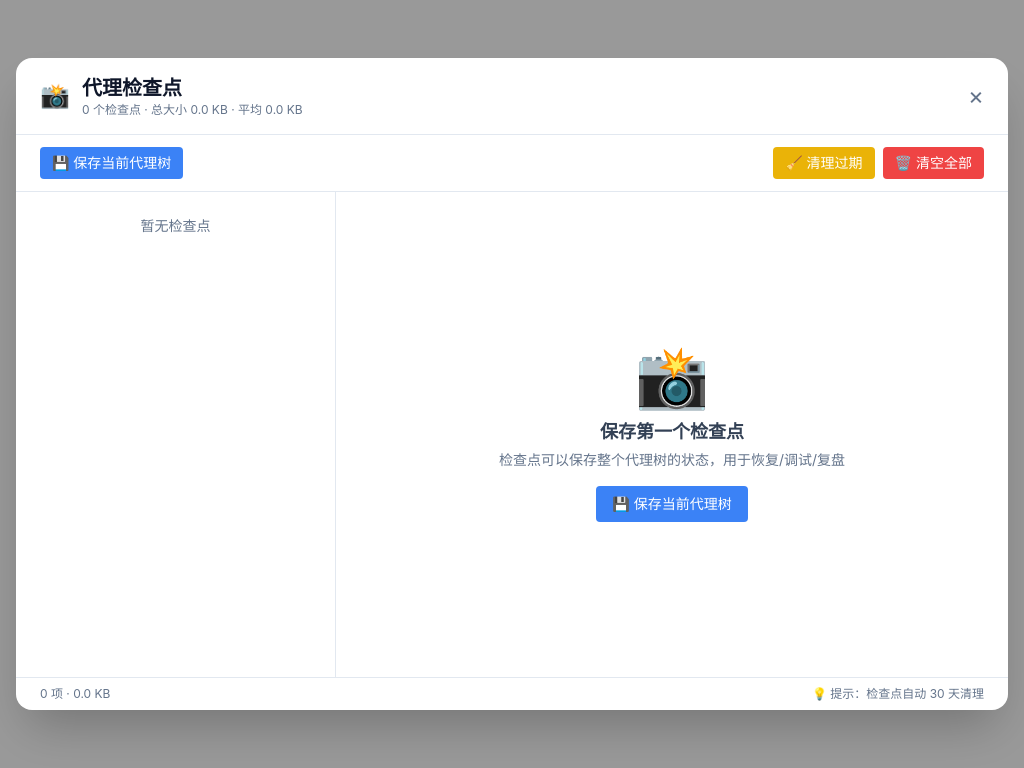
it: AgentCheckpointPanel › 保存带名称和标签
The image size is (1024, 768).
Click the button with test id "save-button" at {"x": 112, "y": 163}, box x1=40 y1=147 x2=183 y2=179
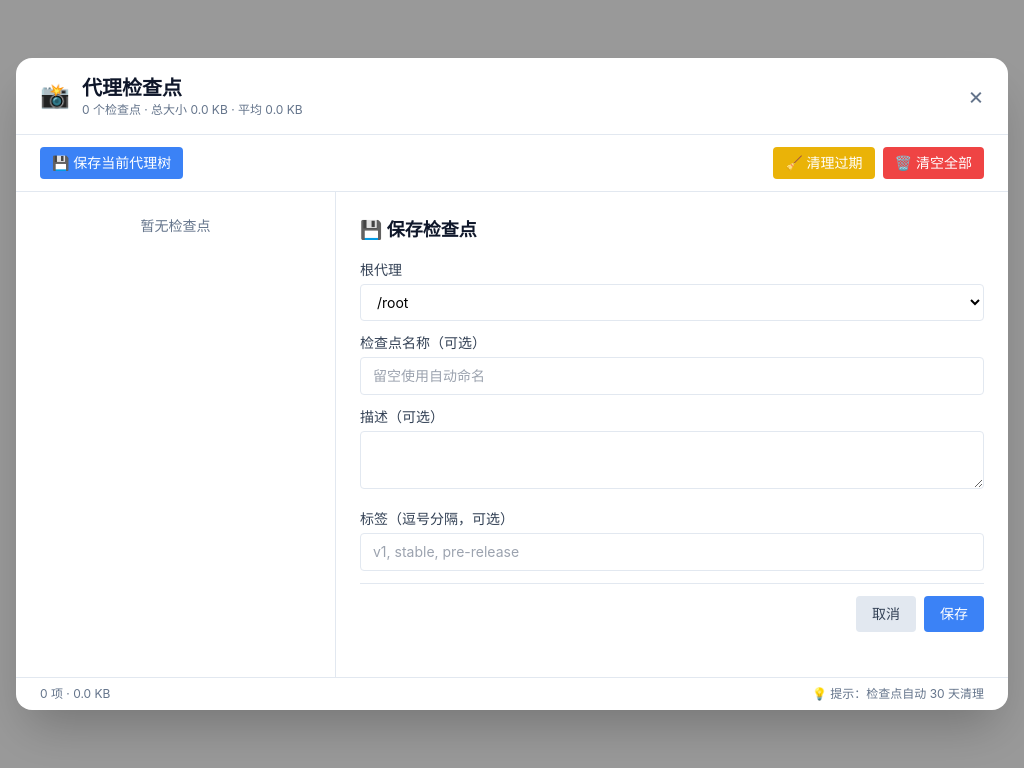
Type "my-checkpoint" into the field with test id "name-input" at {"x": 672, "y": 376}, box x1=360 y1=357 x2=984 y2=395
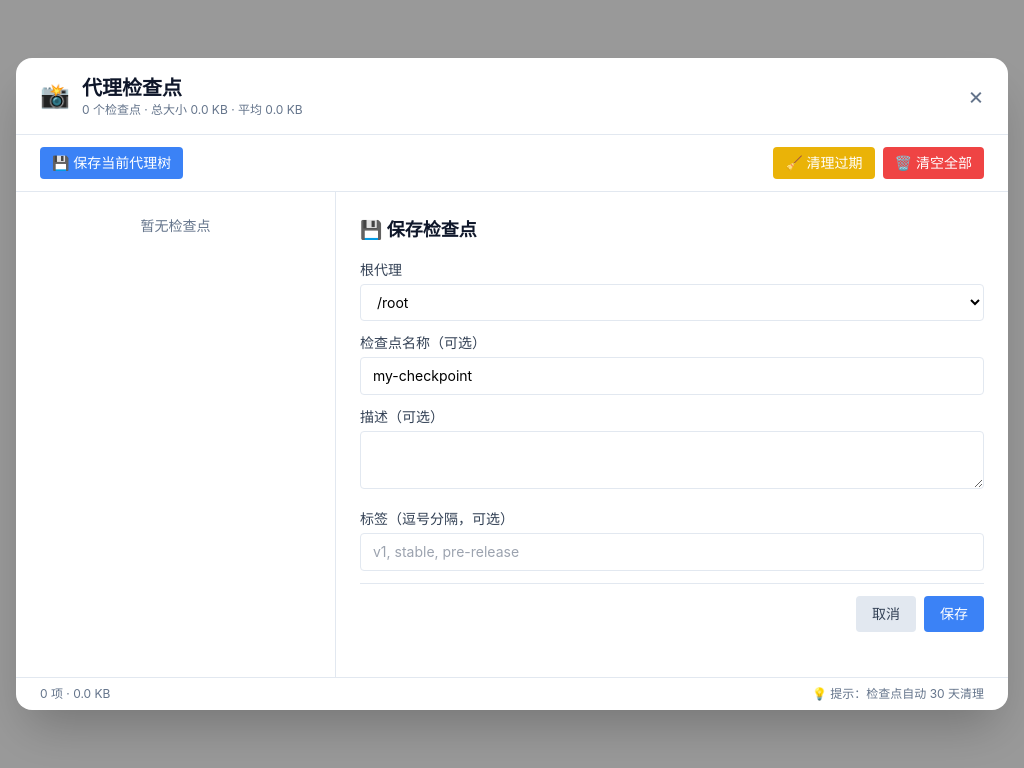
Type "v1, stable" into the field with test id "tags-input" at {"x": 672, "y": 552}, box x1=360 y1=533 x2=984 y2=571
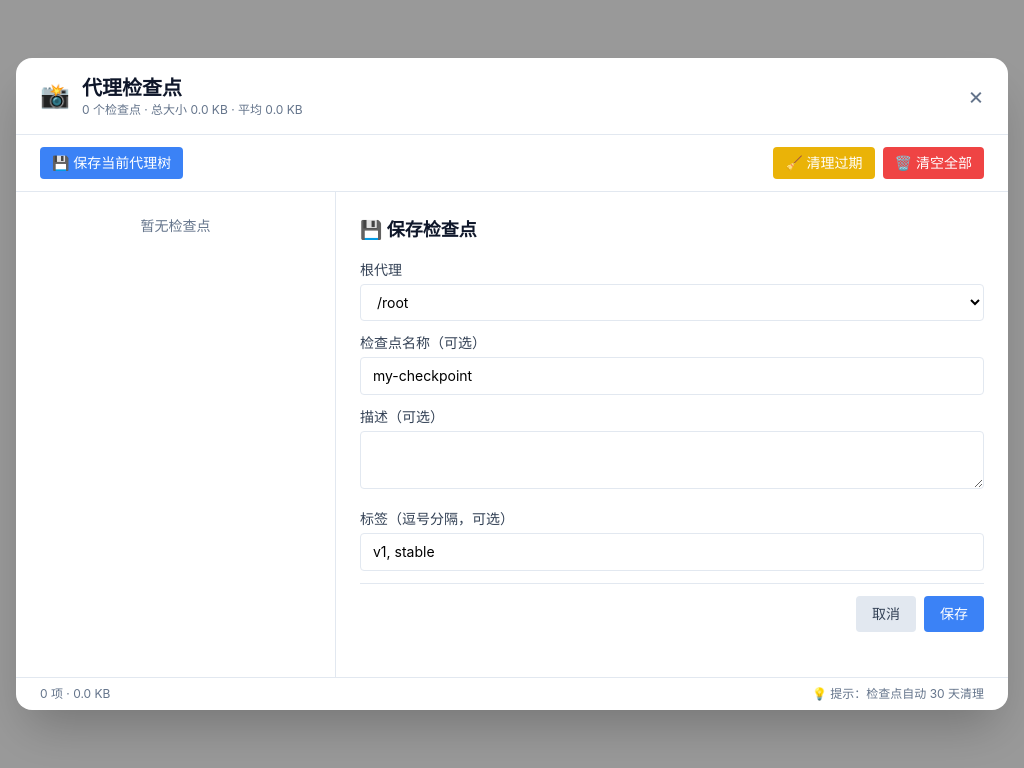
Click the button with test id "save-submit" at {"x": 954, "y": 614}, box x1=924 y1=596 x2=984 y2=632
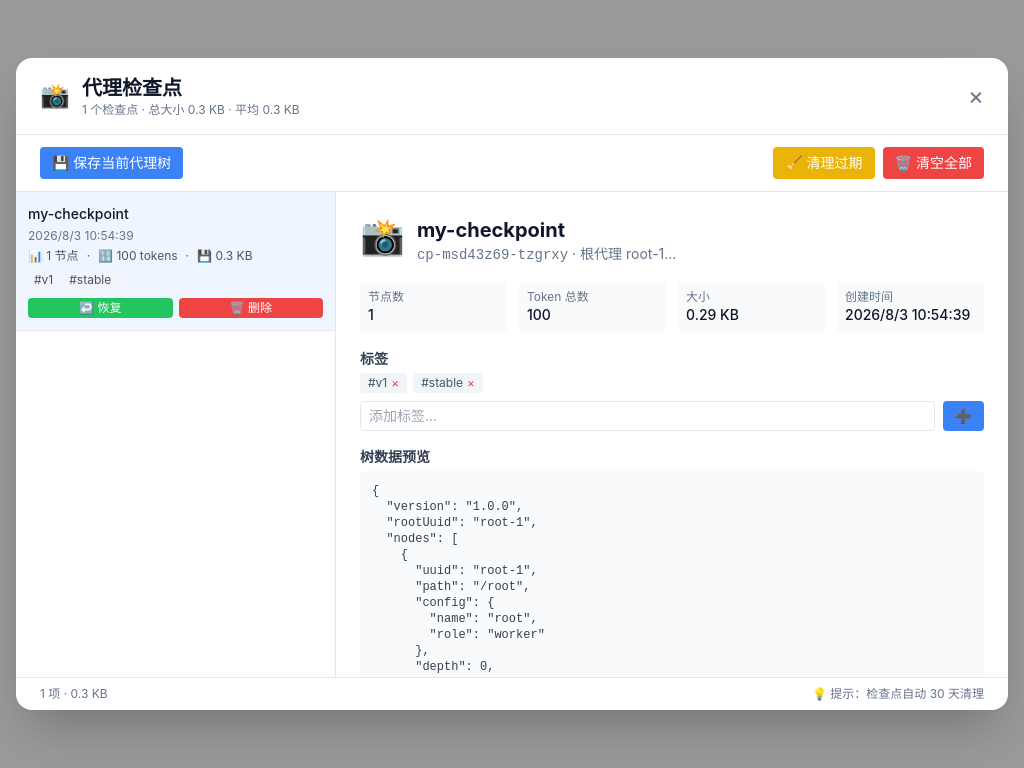
Expected: the text "my-checkpoint" is shown, x1=28 y1=205 x2=129 y2=222
